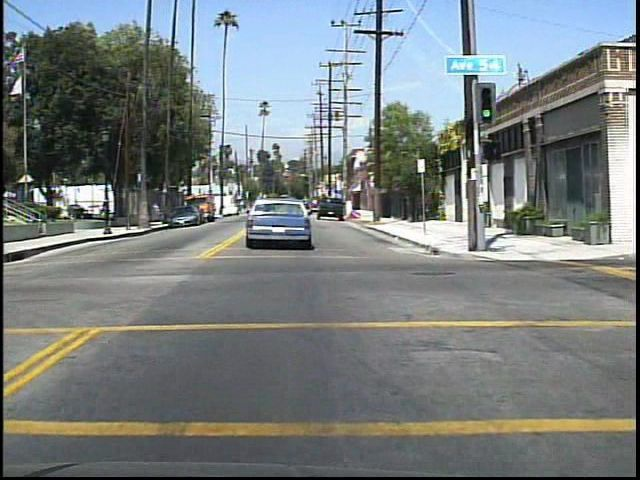person: (152, 204, 165, 230), (120, 195, 132, 218), (101, 198, 109, 220)
